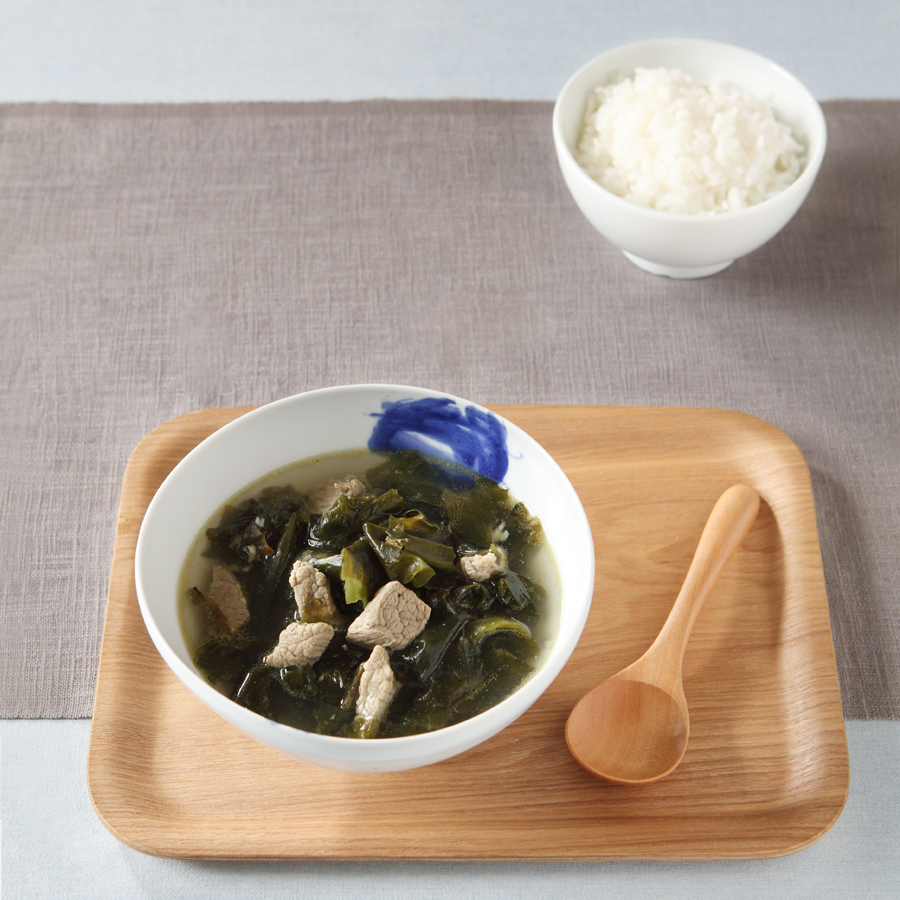miyeoggug: (153, 389, 555, 756)
